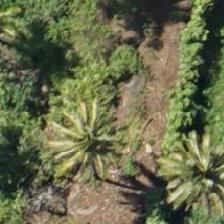coconut_tree: (44, 91, 134, 181), (158, 123, 223, 213)
